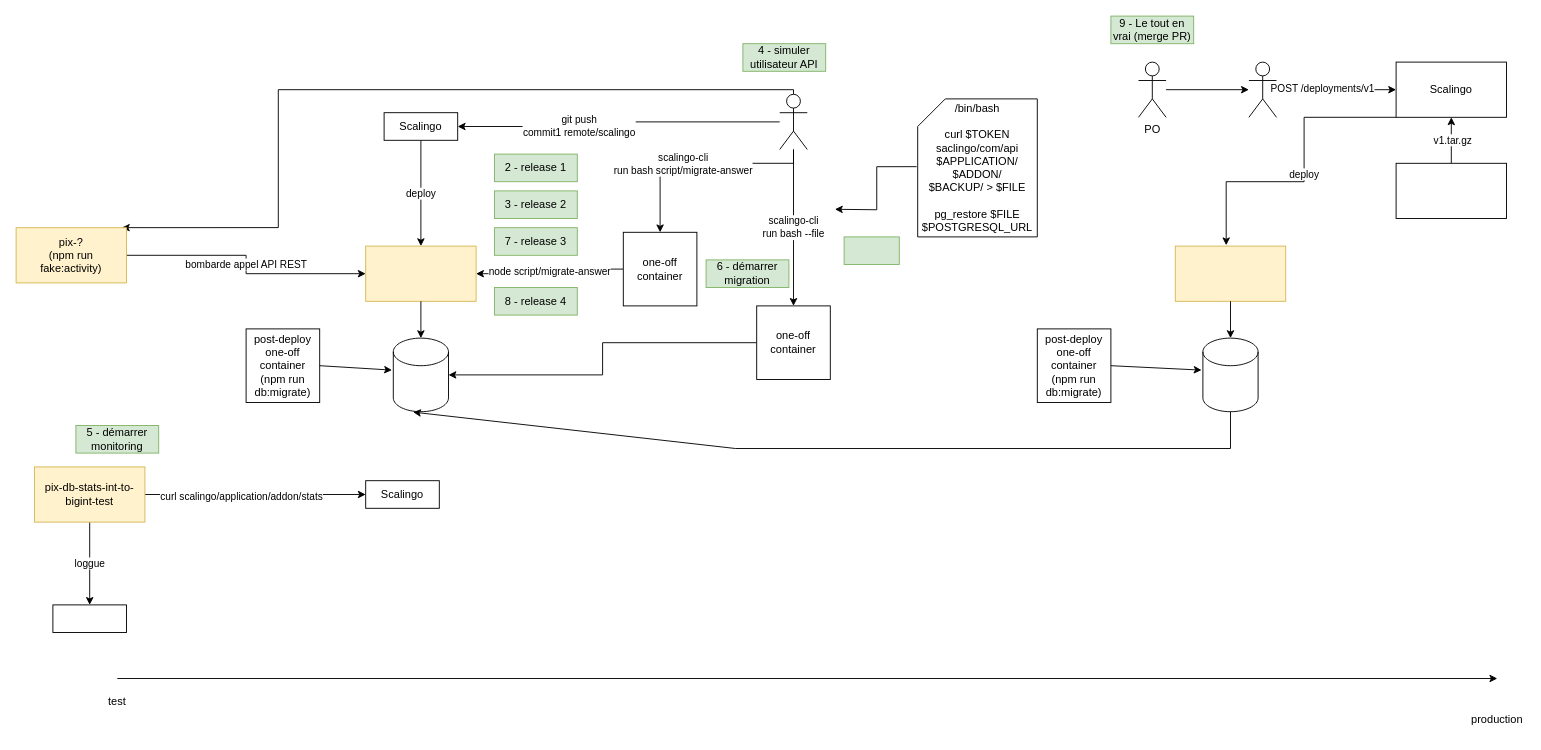
Some shapes in this 1541 by 750 pixel diagram are drawn without their labels. The shapes that lost their labels are listed below. From the top down, each one's centre as x and y in pixels, then its label:
At point (1262, 89): "PixBot".
At point (793, 121): "DEV".
At point (1450, 190): "Github".
At point (871, 250): "1 - manuel (1 jour)".
At point (420, 273): "pix-int-to-bigint-test (npm start)".
At point (1230, 273): "pix-api-production (npm start)".
At point (420, 374): "BDD".
At point (1230, 374): "BDD production".
At point (89, 618): "Datadog".
